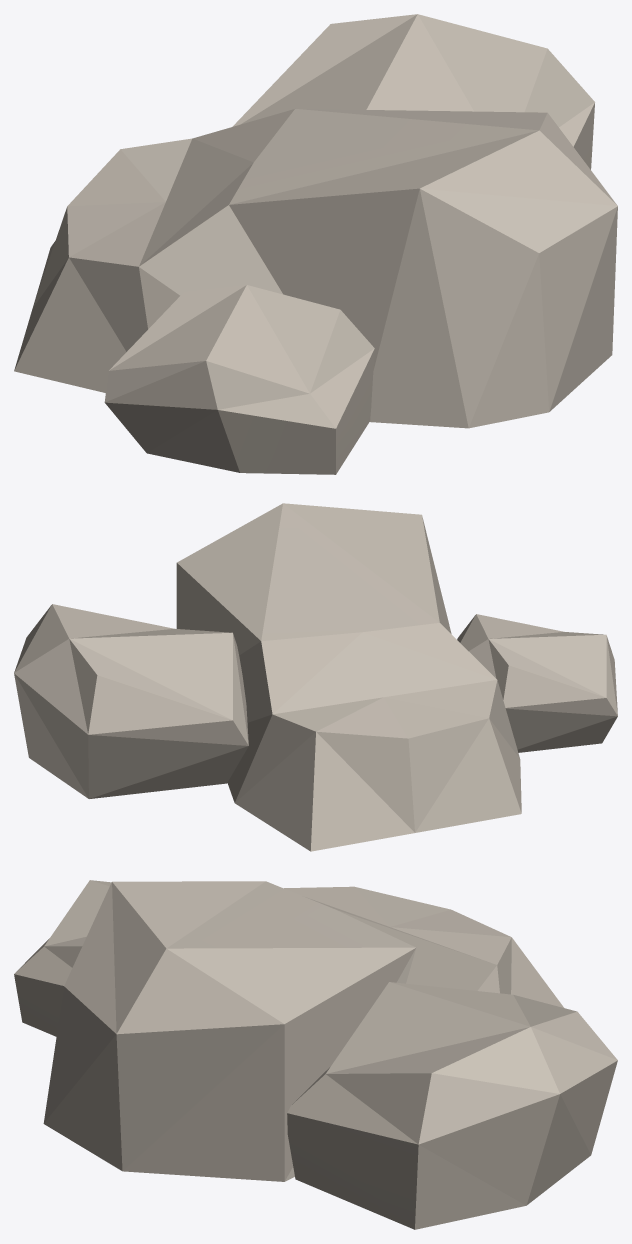
The model's file is rock_a_110.gltf.
3 views of the same model, one above another, from view 1: azimuth 30°, elevation 25°; view 2: azimuth 150°, elevation 25°; view 3: azimuth 270°, elevation 25° (orthographic). The views are drawn at different scales.
Parts seen in each view (by area): view 1: rock_a002; view 2: rock_a002; view 3: rock_a002.
Part boxes in pixels (x1=…): rock_a002: x1=14, y1=14, x2=617, y2=474; rock_a002: x1=14, y1=503, x2=617, y2=851; rock_a002: x1=14, y1=880, x2=617, y2=1229.
Bounding box in the file's own units: 0.6161 × 0.2059 × 0.5609.
1 material, 1 textured.
